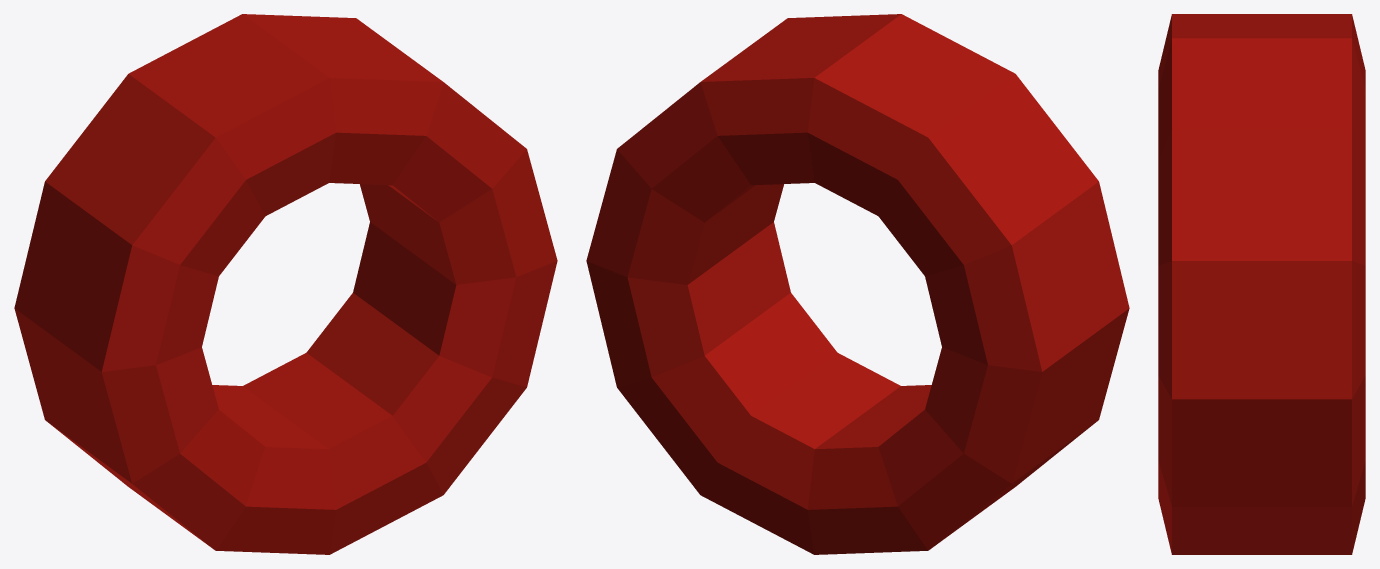
Rendered from Wheel.glb.
3 renders of one model, left to right at view 1: azimuth 30°, elevation 25°; view 2: azimuth 150°, elevation 25°; view 3: azimuth 270°, elevation 25°, orthographic. The views are drawn at different scales.
Visible parts, largest first — view 1: Wheel01_Cylinder; view 2: Wheel01_Cylinder; view 3: Wheel01_Cylinder.
Part boxes in pixels (x1,y1,x2,y2): Wheel01_Cylinder: [14, 14, 557, 554]; Wheel01_Cylinder: [586, 14, 1129, 554]; Wheel01_Cylinder: [1158, 14, 1365, 554].
Size of the model in its own units: 6.41 by 6.41 by 2.45.
